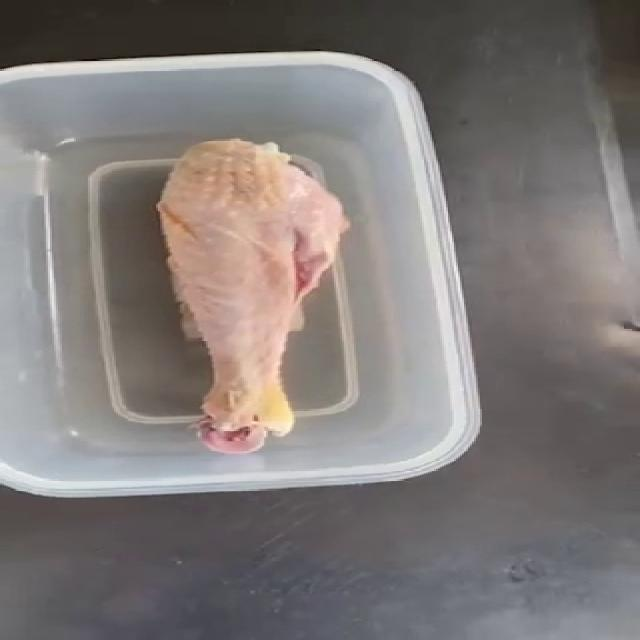chicken: (154, 140, 340, 460)
